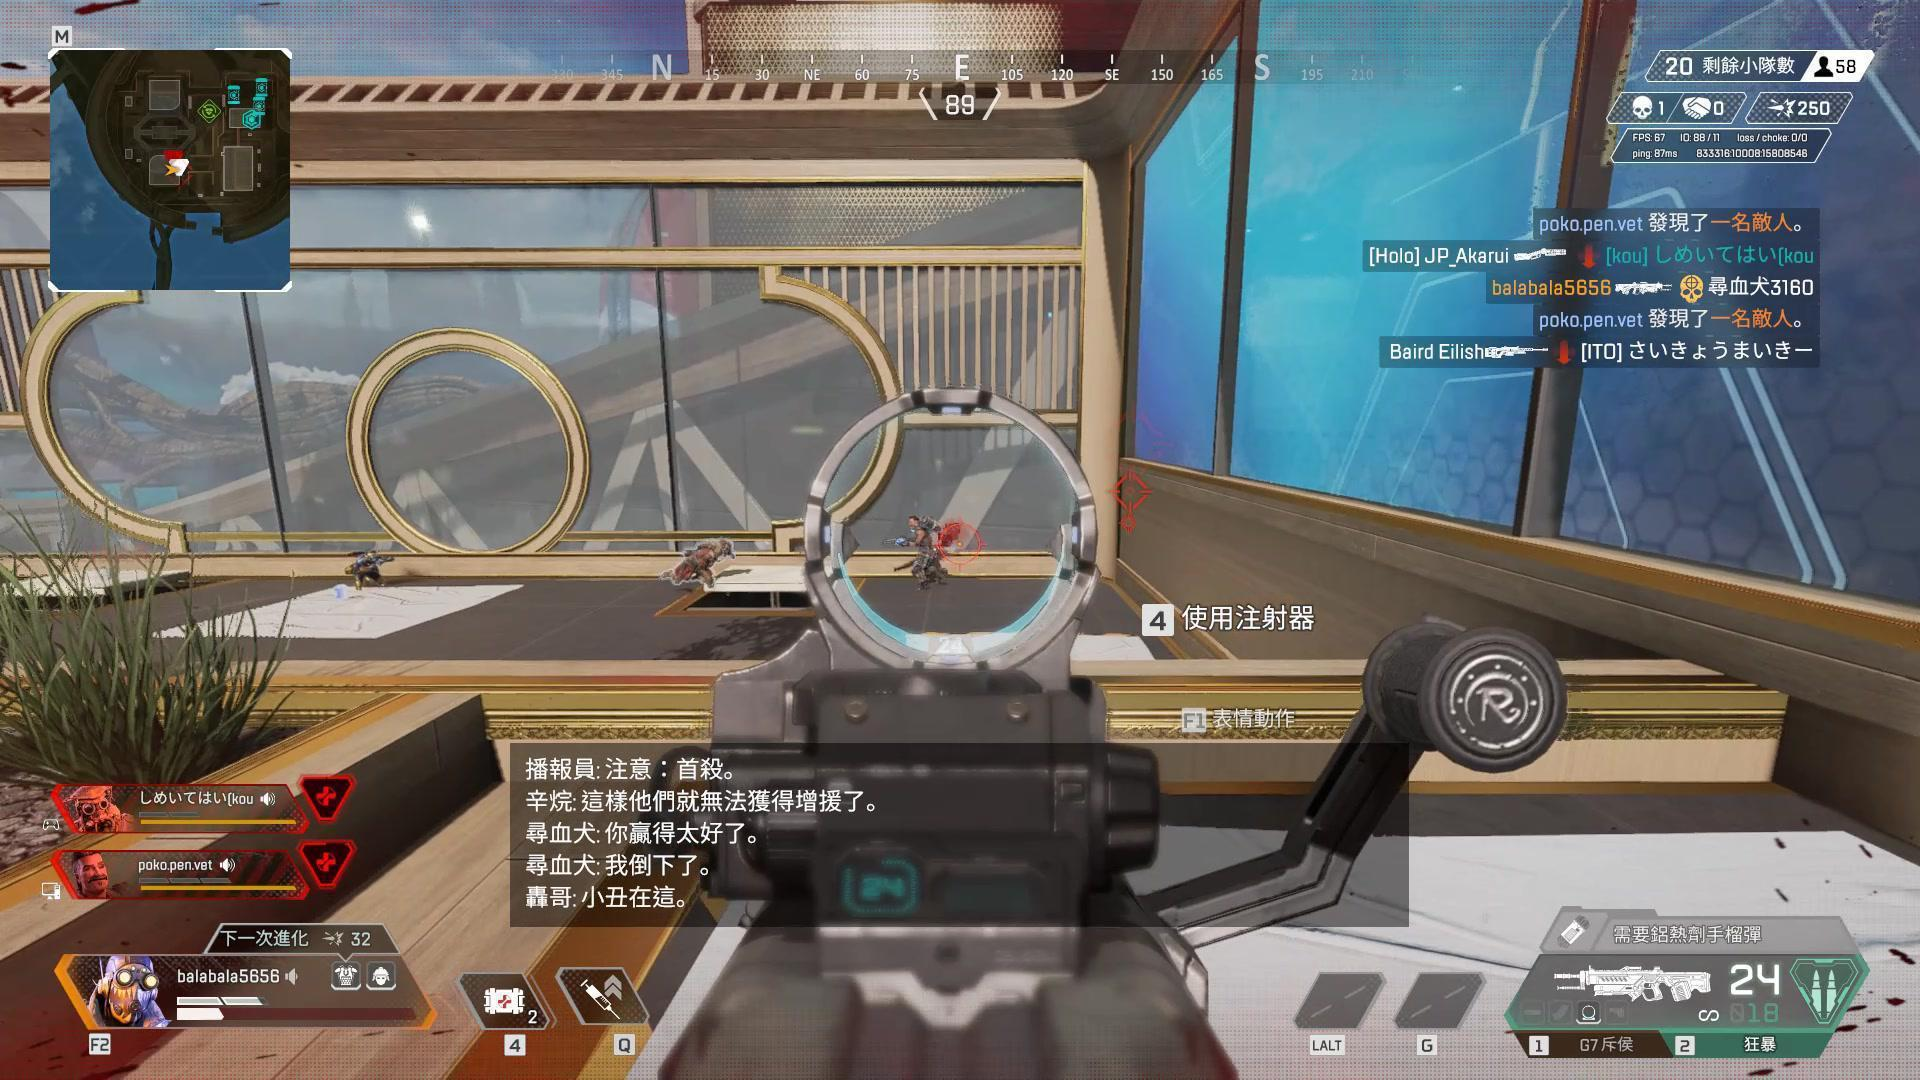avatar: (905, 513, 950, 591)
